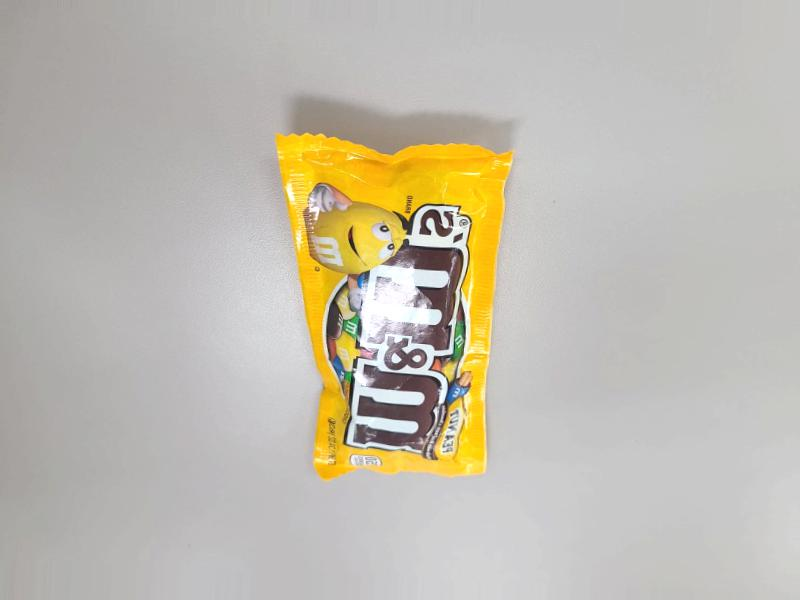m&m: (255, 127, 488, 509)
